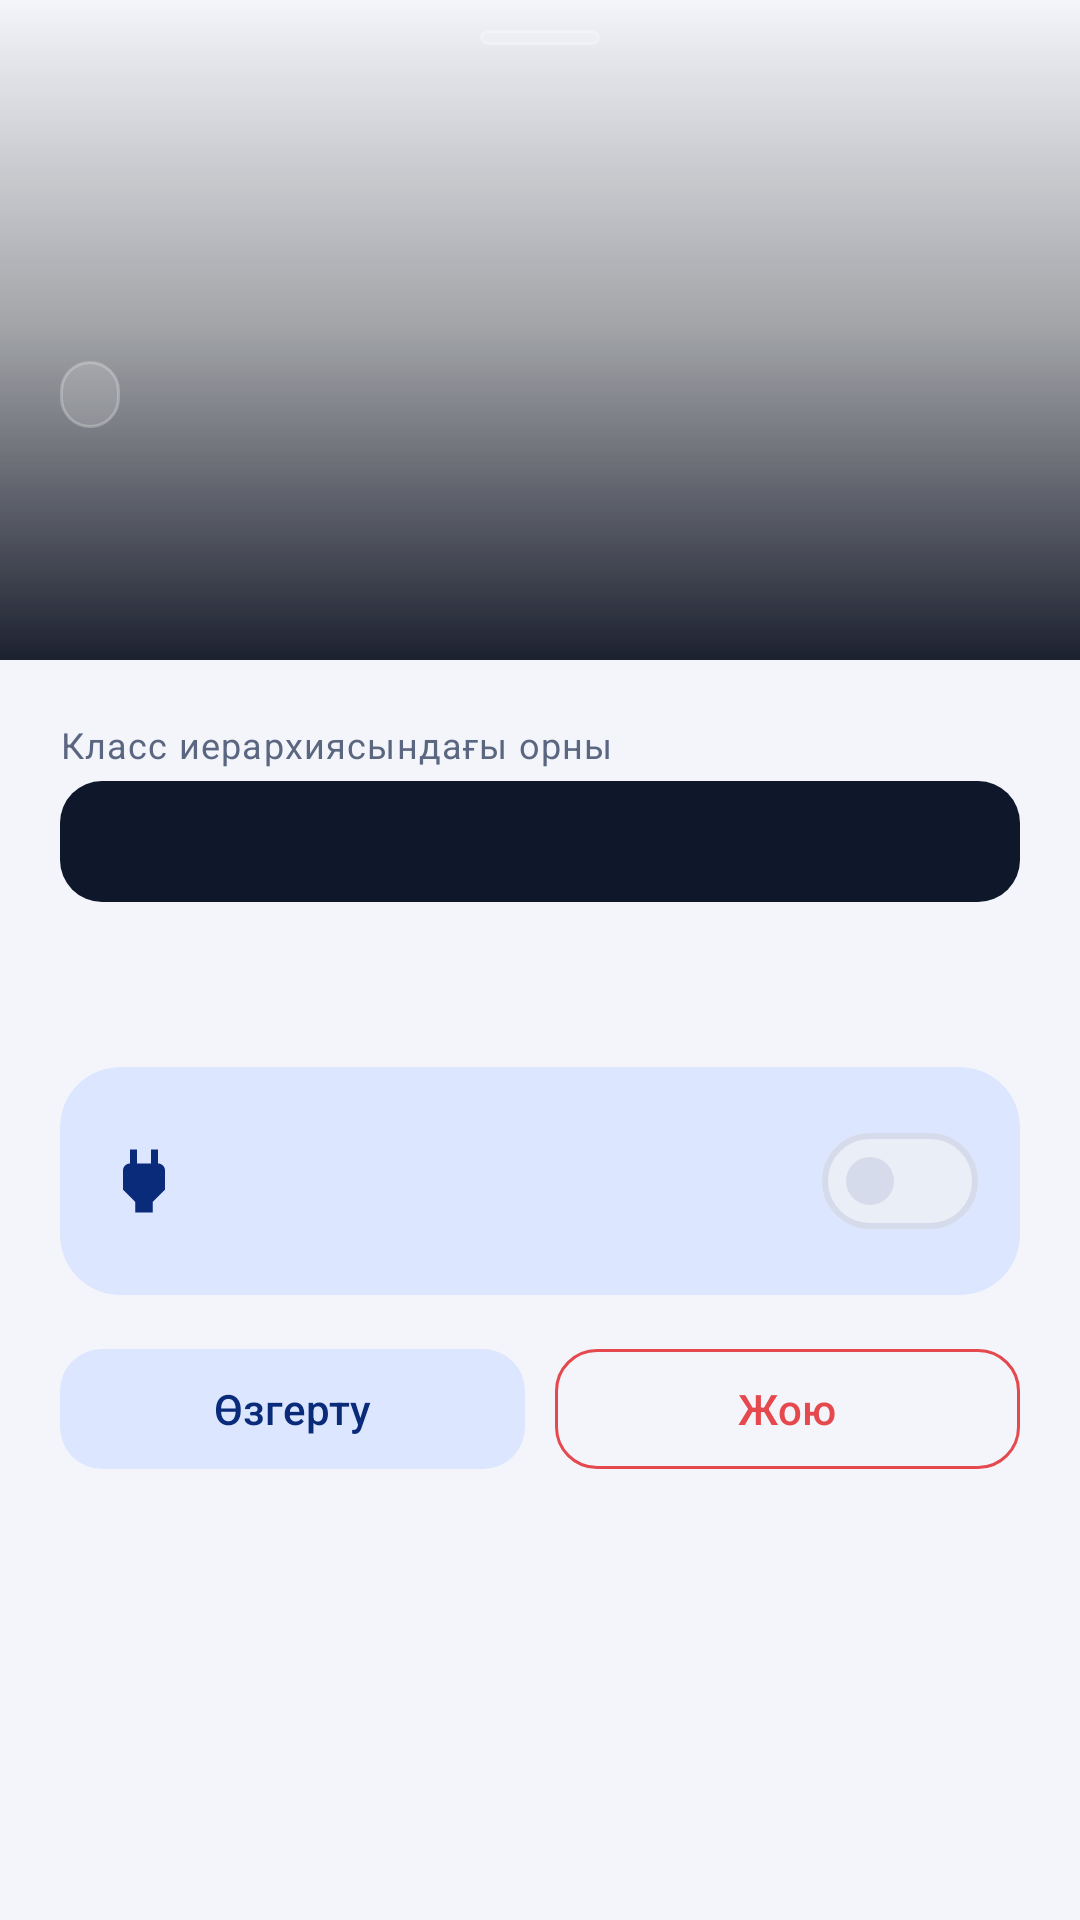

Locate icon controls on the screen. Image size 1080px×1920px, boxes as (x1, y1, x2, y2).
plug: (123, 1149, 165, 1213)
